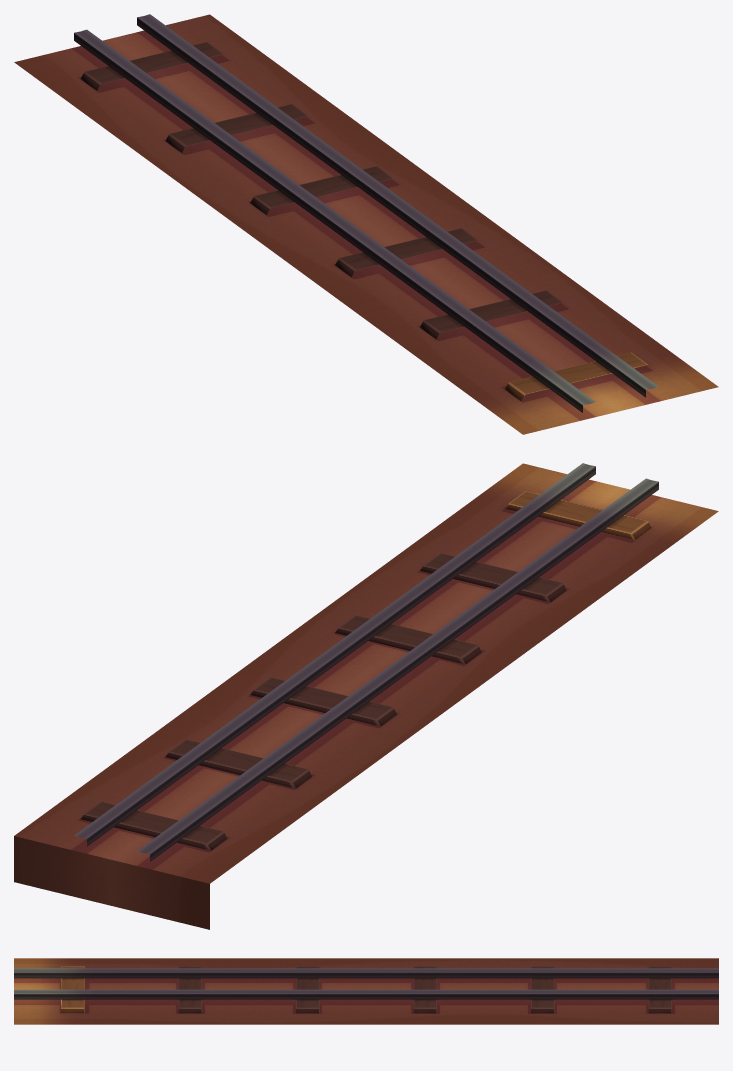
File: 1.100_SanFrancisco_track_shadow_short_end.glb
3 renders of one model, top to bottom at view 1: azimuth 30°, elevation 25°; view 2: azimuth 150°, elevation 25°; view 3: azimuth 270°, elevation 25°, orthographic. The views are drawn at different scales.
Parts seen in each view (by area): view 1: 1.100_SanFrancisco_track_shadow_short_end; view 2: 1.100_SanFrancisco_track_shadow_short_end; view 3: 1.100_SanFrancisco_track_shadow_short_end.
Part boxes in pixels (x1=…): 1.100_SanFrancisco_track_shadow_short_end: x1=14, y1=14, x2=718, y2=434; 1.100_SanFrancisco_track_shadow_short_end: x1=14, y1=463, x2=718, y2=929; 1.100_SanFrancisco_track_shadow_short_end: x1=14, y1=958, x2=718, y2=1024.
Bounding box in the file's own units: 20 × 5.96 × 90.
2 materials, 2 textured.
